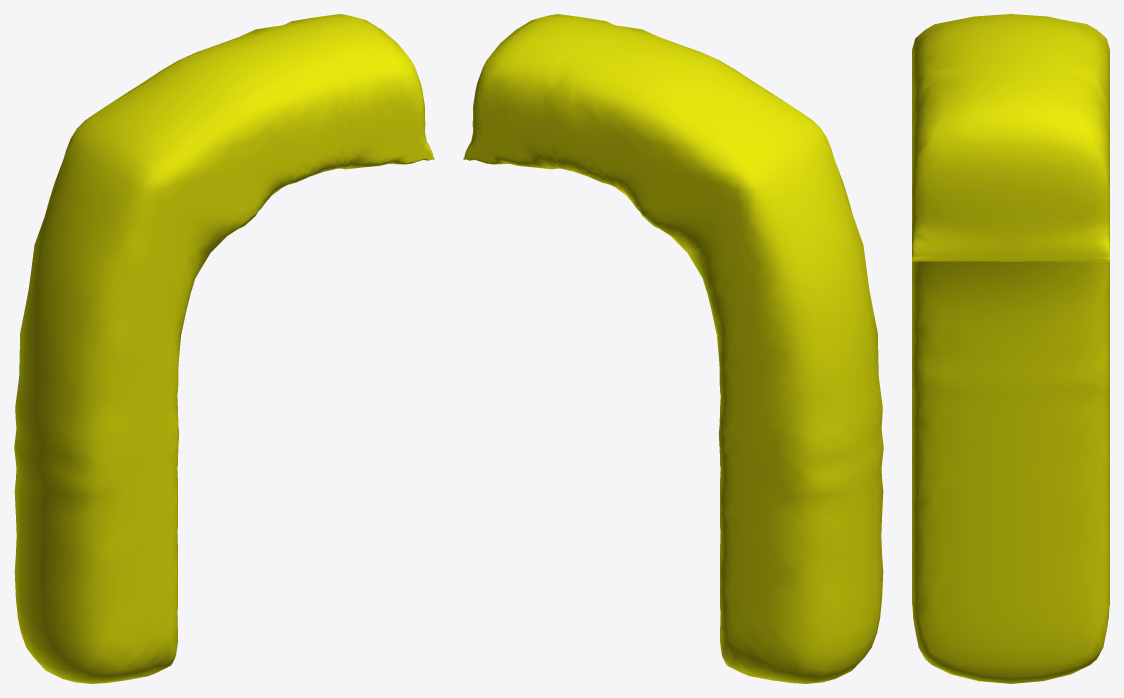
3 renders of one model, left to right at view 1: azimuth 30°, elevation 25°; view 2: azimuth 150°, elevation 25°; view 3: azimuth 270°, elevation 25°, orthographic. The views are drawn at different scales.
Parts seen in each view (by area): view 1: num_2; view 2: num_2; view 3: num_2.
Boxes of the visible parts, <box> form: num_2: <box>14,14,434,683</box>; num_2: <box>463,14,883,683</box>; num_2: <box>912,14,1109,683</box>.
Bounding box in the file's own units: 4.22 × 6.48 × 1.6.
